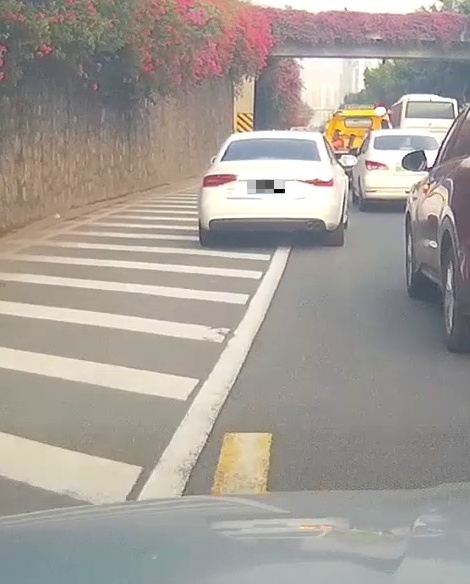L_light: (201, 174, 237, 188)
R_light: (296, 172, 333, 187)
T_light: (261, 138, 289, 142)
day-no: (198, 131, 344, 246)
plate_1: (247, 180, 285, 193)
